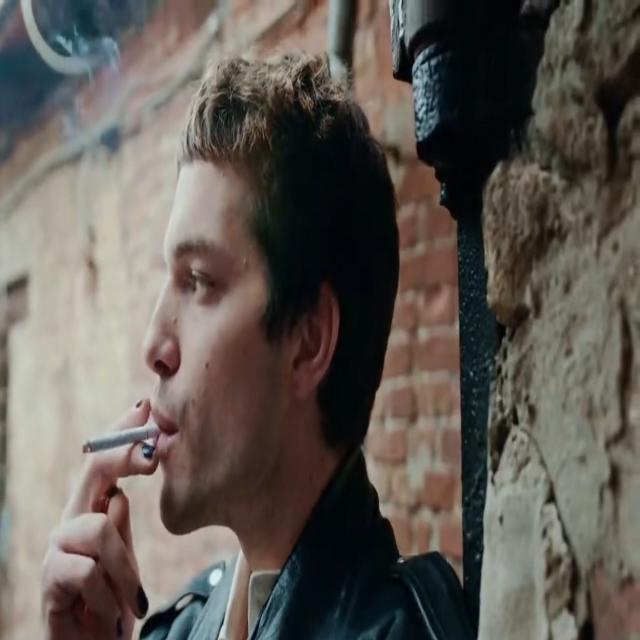Курение: (75, 425, 168, 455)
